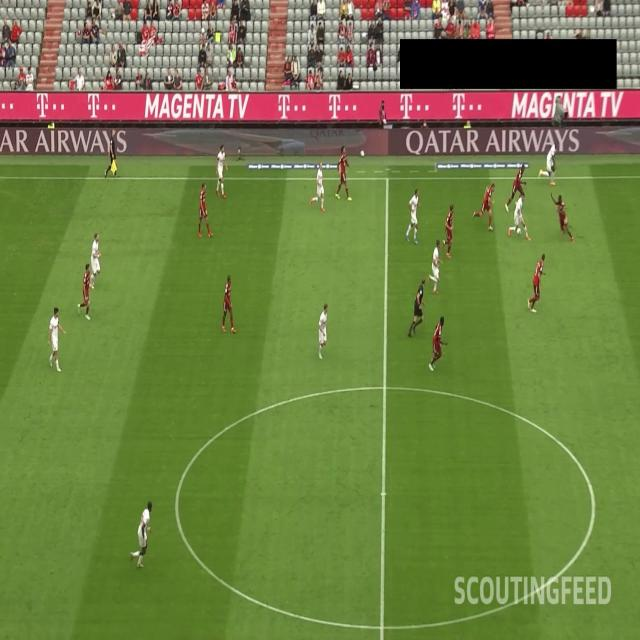ball: (516, 224, 522, 238)
player: (128, 498, 152, 570), (45, 300, 67, 375), (526, 246, 549, 314), (506, 188, 533, 241), (469, 176, 494, 232), (505, 158, 530, 214), (550, 188, 574, 245), (428, 313, 450, 372), (536, 139, 562, 188), (75, 260, 93, 322), (221, 270, 238, 335), (334, 145, 353, 203), (308, 160, 327, 214), (197, 180, 214, 239), (425, 235, 441, 295), (405, 184, 420, 246), (87, 230, 102, 290), (442, 201, 456, 260), (214, 142, 228, 199), (317, 296, 329, 358)
referee: (407, 276, 426, 338), (102, 128, 118, 178)
